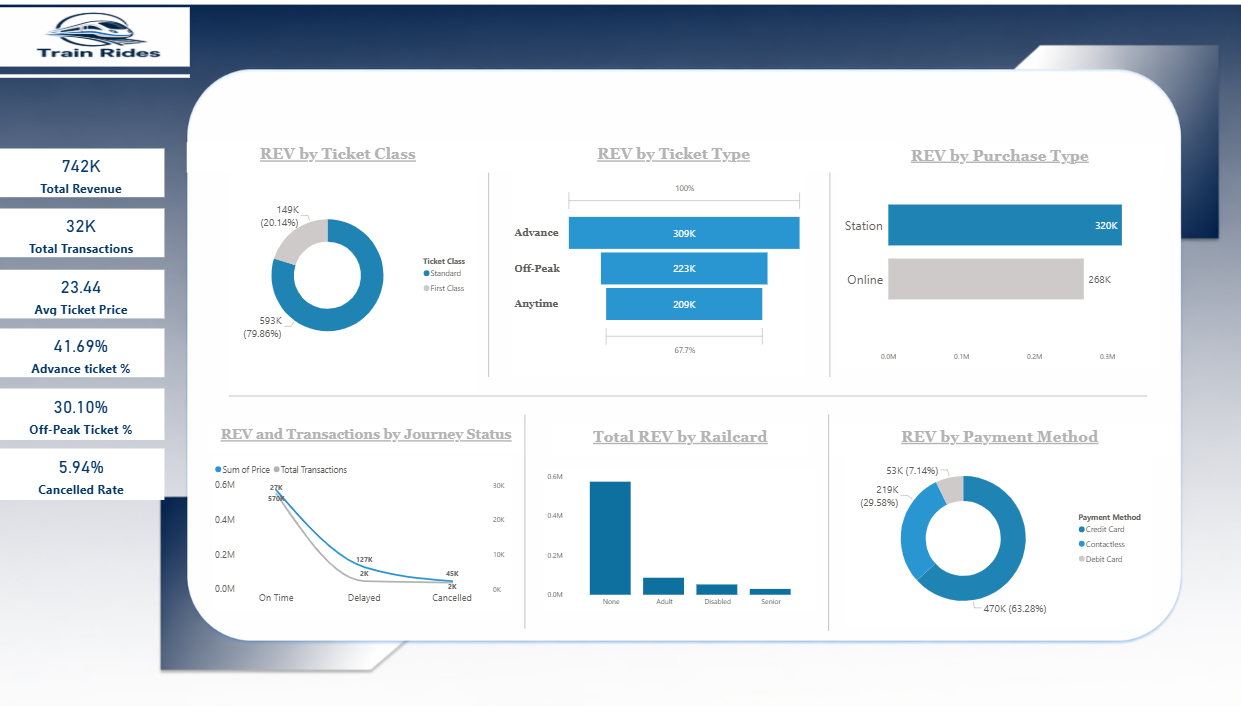

Layout of this report page (visuals, bound fields, positions):
{"tool":"powerbi","page":{"name":" revenue","canvas":[2150,1270],"ordinal":1},"visuals":[{"type":"image","box":[0,21.6,2150.5,1248.9],"z":0},{"type":"donutChart","fields":{"Y":["Sum(railway.Price)"],"Category":["railway.Ticket Class"]},"box":[399,306.3,429.2,403.3],"z":1000},{"type":"funnel","title":"REV by Departure Station","fields":{"Category":["railway.Ticket Type"],"Y":["Sum(railway.Price)"]},"box":[886.5,310.6,506.9,371],"z":2000},{"type":"clusteredBarChart","title":"TOP 5 Destination by sales ","fields":{"Category":["railway.Purchase Type"],"Y":["Sum(railway.Price)"]},"box":[1449.5,289,554.3,377.5],"z":3000},{"type":"shape","box":[1371.8,310.6,127.3,373.2],"z":4000},{"type":"shape","box":[783,310.6,127.3,373.2],"z":5000},{"type":"shape","box":[399,601.8,1583.2,228.6],"z":6000},{"type":"textbox","box":[783,278.2,765.7,51.8],"z":7000},{"type":"textbox","box":[1443,280.3,571.6,51.8],"z":8000},{"type":"textbox","box":[325.7,278.1,522,51.8],"z":9000},{"type":"textbox","box":[360.2,763.6,550,51.8],"z":10000},{"type":"textbox","box":[1423.6,765.7,610.4,51.8],"z":11000},{"type":"shape","box":[3,125.2,328.9,77.8],"z":12000},{"type":"image","box":[3,45.2,328.9,102.2],"z":13000},{"type":"card","fields":{"Values":["railway.Total Revenue"]},"box":[0,289,286.9,84.1],"z":14000},{"type":"card","fields":{"Values":["railway.Avg Ticket Price"]},"box":[0,498.3,286.9,84.1],"z":15000},{"type":"card","fields":{"Values":["railway.Total Transactions"]},"box":[0,392.6,286.9,84.1],"z":16000},{"type":"card","fields":{"Values":["railway.Advance %"]},"box":[0,599.6,286.9,84.1],"z":17000},{"type":"card","fields":{"Values":["railway.Off-Peak Ticket %"]},"box":[0,703.2,286.9,88.4],"z":18000},{"type":"donutChart","fields":{"Category":["railway.Payment Method"],"Y":["Sum(railway.Price)"]},"box":[1462.4,806.7,530.6,310.6],"z":19000},{"type":"clusteredColumnChart","fields":{"Y":["Sum(railway.Price)"],"Category":["railway.Railcard"]},"box":[942.6,841.2,470.2,248],"z":20000},{"type":"lineChart","fields":{"Category":["railway.Journey Status"],"Y":["Sum(railway.Price)"],"Y2":["railway.Total Transactions"]},"box":[368.8,821.8,517.7,263.1],"z":21000},{"type":"textbox","box":[955.5,765.7,444.3,51.8],"z":22000},{"type":"shape","box":[1369.7,748.5,127.3,373.2],"z":23000},{"type":"shape","box":[845.5,748.5,127.3,368.8],"z":24000},{"type":"card","fields":{"Values":["railway.Cancelled Rate"]},"box":[0,806.7,286.9,88.4],"z":25000}]}

Visuals, with their boxes in screenshot pixels (x1, y1, x2, y2), scaled from the page's 2150x1270 canvas onto the 1241x717 screenshot:
image: bbox=[0, 12, 1240, 716]
donutChart - Sum(railway.Price) x railway.Ticket Class: bbox=[230, 173, 478, 401]
"REV by Departure Station" funnel: bbox=[512, 175, 804, 385]
"TOP 5 Destination by sales " clusteredBarChart: bbox=[837, 163, 1157, 376]
shape: bbox=[792, 175, 865, 386]
shape: bbox=[452, 175, 525, 386]
shape: bbox=[230, 340, 1144, 469]
textbox: bbox=[452, 157, 894, 186]
textbox: bbox=[833, 158, 1163, 187]
textbox: bbox=[188, 157, 489, 186]
textbox: bbox=[208, 431, 525, 460]
textbox: bbox=[822, 432, 1174, 462]
shape: bbox=[2, 71, 192, 115]
image: bbox=[2, 26, 192, 83]
card - railway.Total Revenue: bbox=[0, 163, 166, 211]
card - railway.Avg Ticket Price: bbox=[0, 281, 166, 329]
card - railway.Total Transactions: bbox=[0, 222, 166, 269]
card - railway.Advance %: bbox=[0, 339, 166, 386]
card - railway.Off-Peak Ticket %: bbox=[0, 397, 166, 447]
donutChart - railway.Payment Method x Sum(railway.Price): bbox=[844, 455, 1150, 631]
clusteredColumnChart - Sum(railway.Price) x railway.Railcard: bbox=[544, 475, 815, 615]
lineChart - railway.Journey Status x Sum(railway.Price): bbox=[213, 464, 512, 612]
textbox: bbox=[552, 432, 808, 462]
shape: bbox=[791, 423, 864, 633]
shape: bbox=[488, 423, 562, 631]
card - railway.Cancelled Rate: bbox=[0, 455, 166, 505]
